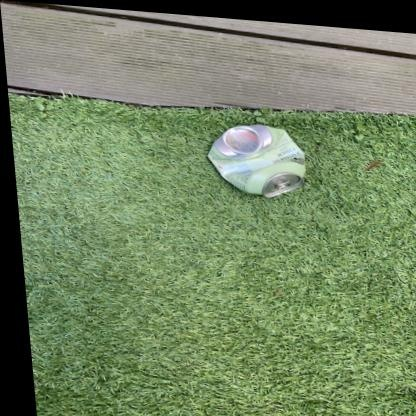trash: (208, 125, 304, 197)
